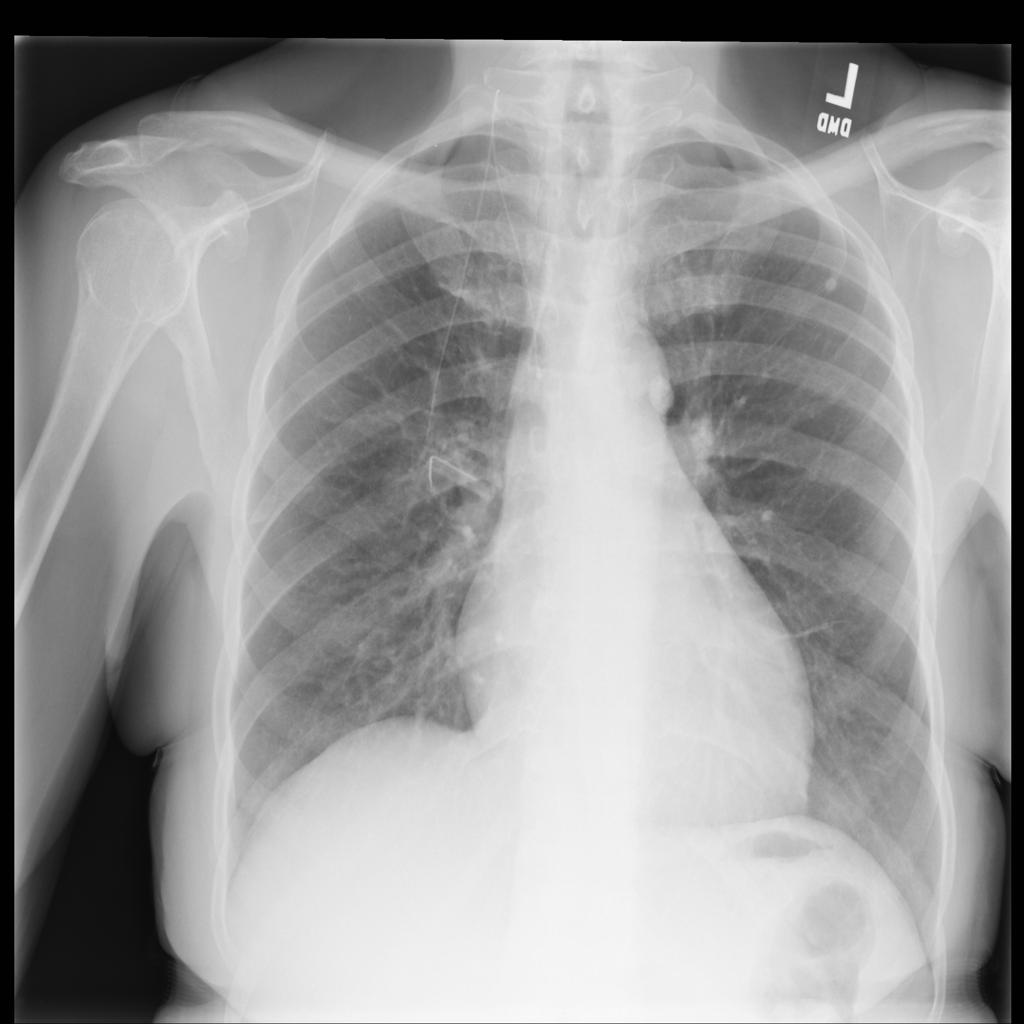nodule: (638, 364, 683, 421), (818, 271, 842, 296)
